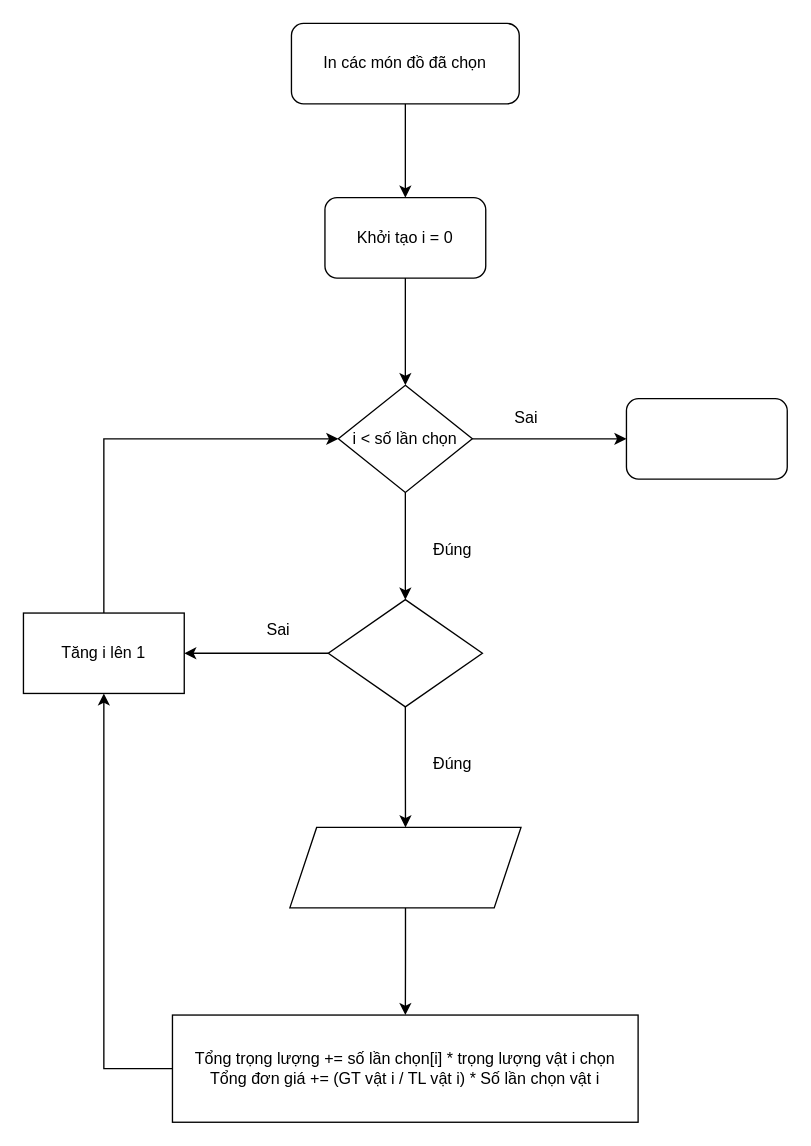
Some shapes in this 811 by 1146 pixel diagram are drawn without their labels. The centre of each missing label's shape, as x and y in pixels:
Kết thúc: the point at 706,438
Món đồ vật i chọn số lần chọn[i] lần: the point at 405,867
Số lần chọn tai i > 0: the point at 404,652
